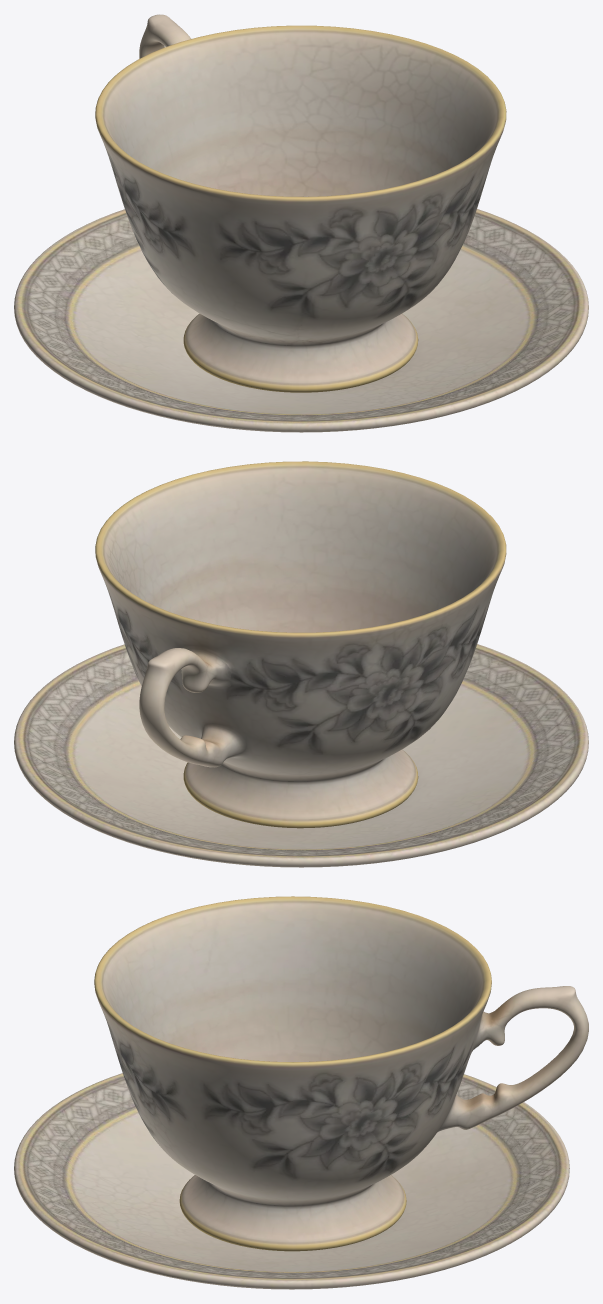
Rendered from diffuse-transmission-teacup.glb.
3 views of the same model, one above another, from view 1: azimuth 30°, elevation 25°; view 2: azimuth 150°, elevation 25°; view 3: azimuth 270°, elevation 25° (orthographic). The views are drawn at different scales.
Parts seen in each view (by area): view 1: tea_cup, tea_saucer; view 2: tea_cup, tea_saucer; view 3: tea_cup, tea_saucer.
Boxes of the visible parts, x1,y1,x2,y2 form: tea_cup: (95, 14, 506, 392); tea_saucer: (14, 209, 588, 432); tea_cup: (95, 461, 506, 828); tea_saucer: (14, 644, 588, 867); tea_cup: (94, 896, 588, 1251); tea_saucer: (14, 1073, 569, 1289).
Size of the model in its own units: 0.1486 by 0.0704 by 0.1537.
Materials: 2 (2 with a texture image).
